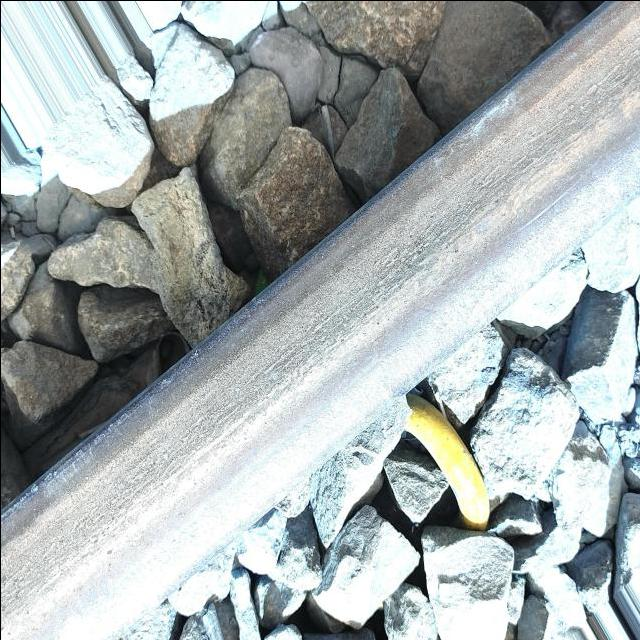broken_rail_medium: (473, 218, 491, 235)
